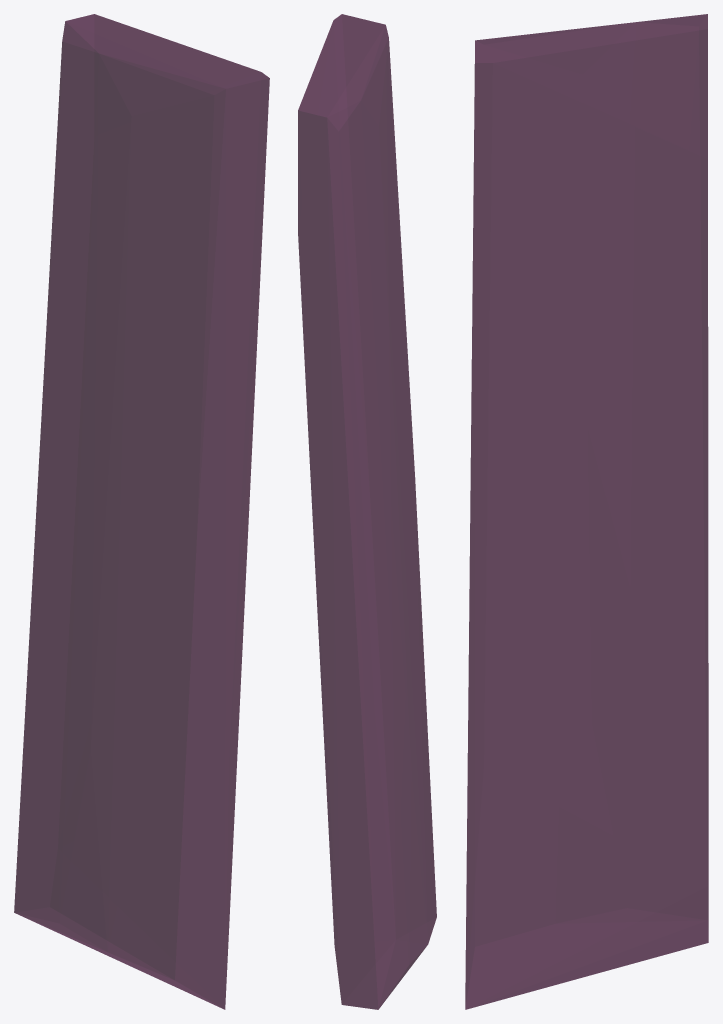
The picture shows the model from 3 angles, left to right: view 1: azimuth 30°, elevation 25°; view 2: azimuth 150°, elevation 25°; view 3: azimuth 270°, elevation 25°; orthographic projection. The views are drawn at different scales.
Visible parts, largest first — view 1: Shape_IndexedFaceSet.009_Shape_IndexedFaceSet.3666; view 2: Shape_IndexedFaceSet.009_Shape_IndexedFaceSet.3666; view 3: Shape_IndexedFaceSet.009_Shape_IndexedFaceSet.3666.
Boxes of the visible parts, x1,y1,x2,y2 form: Shape_IndexedFaceSet.009_Shape_IndexedFaceSet.3666: (14,14,269,1009); Shape_IndexedFaceSet.009_Shape_IndexedFaceSet.3666: (298,14,436,1009); Shape_IndexedFaceSet.009_Shape_IndexedFaceSet.3666: (465,14,708,1009).
Size of the model in its own units: 0.056 by 0.3356 by 0.0762.
